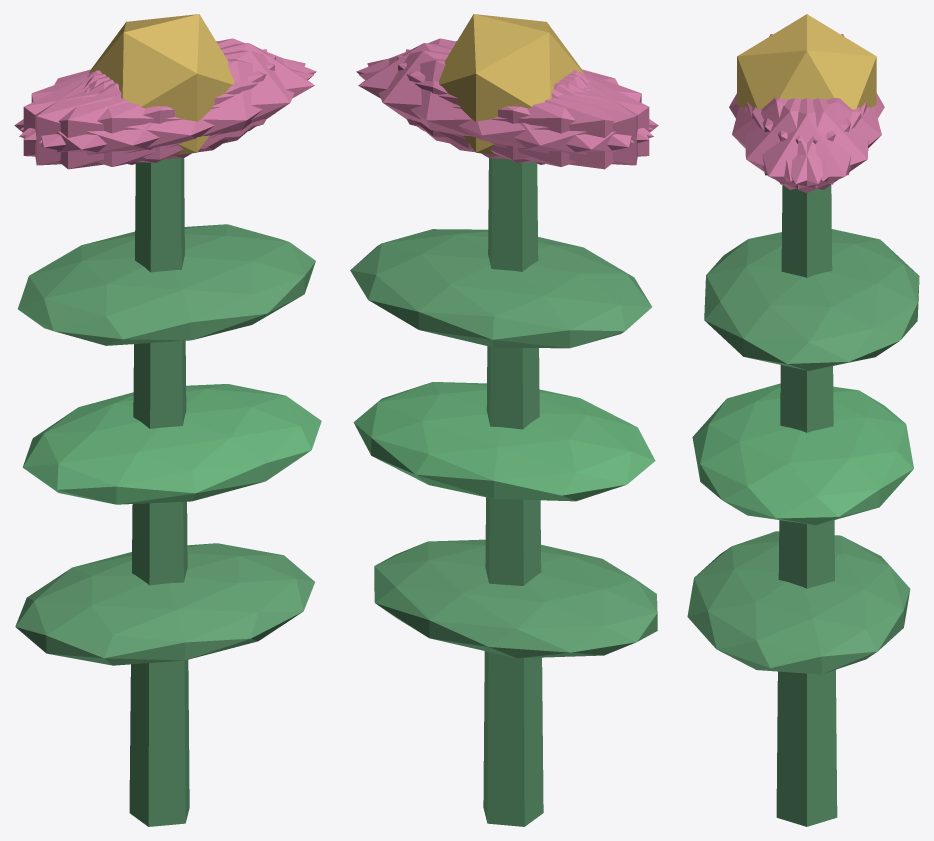
Rendered from manihot-esculenta.glb.
3 views of the same model, side by side, from view 1: azimuth 30°, elevation 25°; view 2: azimuth 150°, elevation 25°; view 3: azimuth 270°, elevation 25° (orthographic).
Visible parts, largest first — view 1: leaf0, leaf1, leaf2, stem, center, petal1, petal6, petal2, petal5, petal7, petal0, petal4 (+2 smaller); view 2: leaf2, leaf1, stem, leaf0, center, petal8, petal3, petal7, petal4, petal2, petal0, petal5 (+2 smaller); view 3: leaf2, leaf1, leaf0, stem, center, petal0, petal4, petal5, petal1, petal8.
Part boxes in pixels (<box>): leaf0: <box>15,543,314,665</box>; leaf1: <box>22,384,321,504</box>; leaf2: <box>18,224,315,345</box>; stem: <box>129,158,189,826</box>; center: <box>89,14,234,155</box>; petal1: <box>19,59,313,166</box>; petal6: <box>14,72,227,169</box>; petal2: <box>35,49,267,165</box>; petal5: <box>39,50,305,159</box>; petal7: <box>23,55,275,162</box>; petal0: <box>88,43,314,149</box>; petal4: <box>20,38,316,140</box>; leaf2: <box>350,229,651,348</box>; leaf1: <box>353,382,655,501</box>; stem: <box>483,158,543,826</box>; leaf0: <box>374,539,657,658</box>; center: <box>439,14,583,155</box>; petal8: <box>359,59,653,166</box>; petal3: <box>445,72,658,169</box>; petal7: <box>405,49,637,165</box>; petal4: <box>367,50,633,159</box>; petal2: <box>397,55,649,162</box>; petal0: <box>358,43,584,149</box>; petal5: <box>356,38,652,140</box>; leaf2: <box>704,229,919,370</box>; leaf1: <box>692,383,913,525</box>; leaf0: <box>687,531,910,674</box>; stem: <box>776,185,837,826</box>; center: <box>737,14,876,109</box>; petal0: <box>747,98,866,193</box>; petal4: <box>752,98,868,189</box>; petal5: <box>745,98,861,189</box>; petal1: <box>732,98,850,181</box>; petal8: <box>762,98,881,181</box>.
Size of the model in its own units: 0.1452 by 0.3781 by 0.1018.
